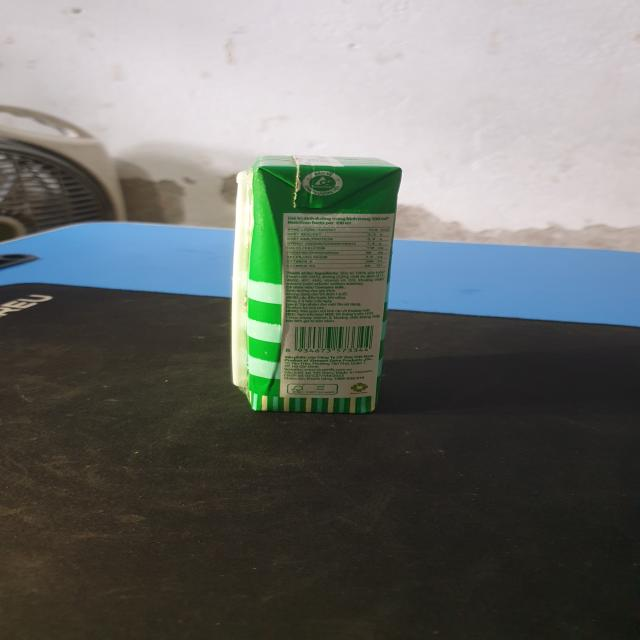Vina: (226, 152, 415, 417)
